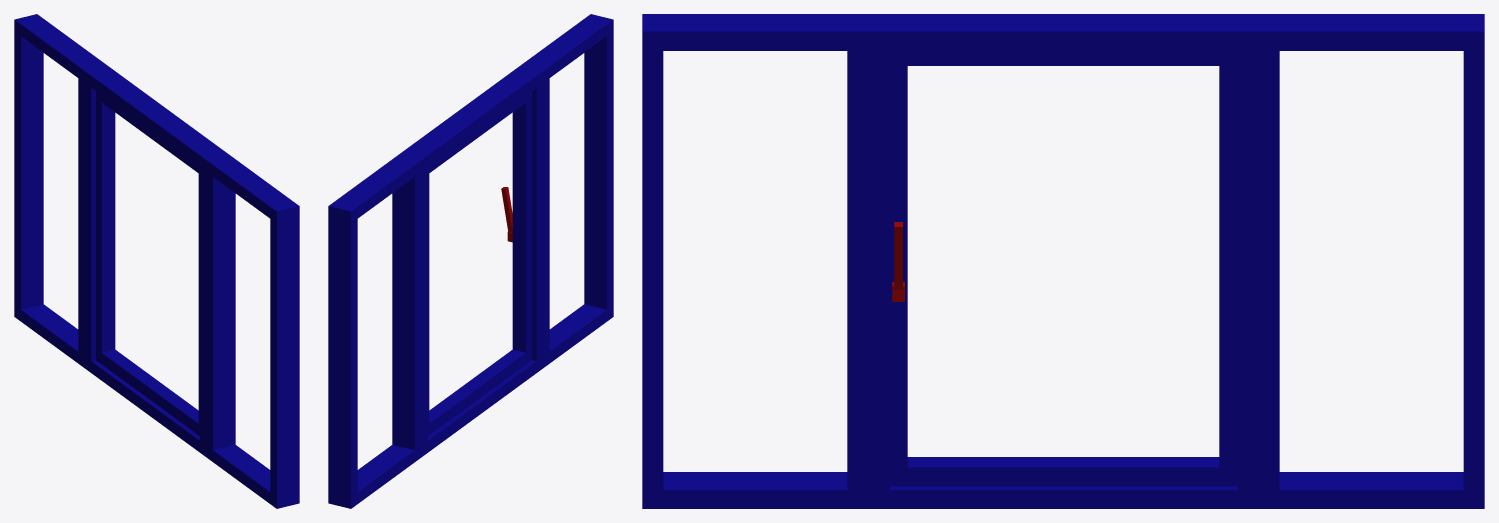
The model's file is Window.FBX.
3 renders of one model, left to right at view 1: azimuth 30°, elevation 25°; view 2: azimuth 150°, elevation 25°; view 3: azimuth 270°, elevation 25°, orthographic. The views are drawn at different scales.
Visible parts, largest first — view 1: Window; view 2: Window; view 3: Window.
Part boxes in pixels (<box>): Window: <box>14,14,299,508</box>; Window: <box>328,14,613,508</box>; Window: <box>642,14,1484,508</box>.
Size of the model in its own units: 13.71 by 200 by 125.
